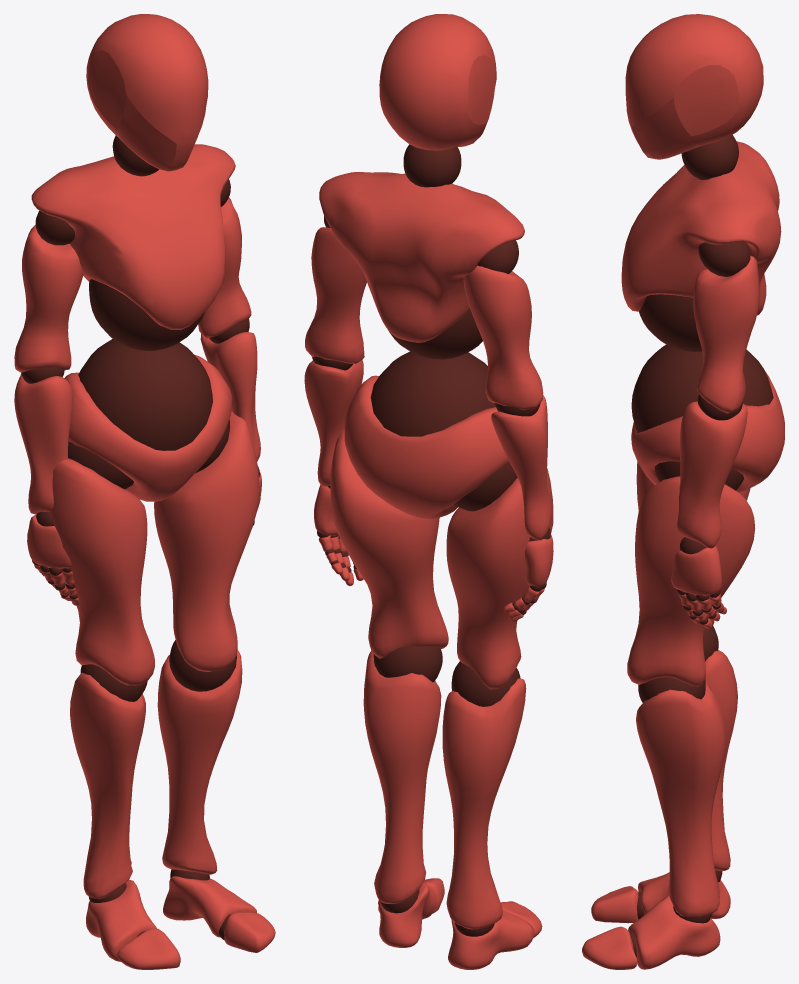
The model's file is dancer.obj.
3 views of the same model, side by side, from view 1: azimuth 30°, elevation 25°; view 2: azimuth 150°, elevation 25°; view 3: azimuth 270°, elevation 25° (orthographic). The views are drawn at different scales.
Visible parts, largest first — view 1: Beta_Surface, Beta_Joints; view 2: Beta_Surface, Beta_Joints; view 3: Beta_Surface, Beta_Joints.
Boxes of the visible parts, <box> form: Beta_Surface: <box>14,14,275,969</box>; Beta_Joints: <box>21,135,259,940</box>; Beta_Surface: <box>304,14,553,969</box>; Beta_Joints: <box>312,144,550,936</box>; Beta_Surface: <box>582,14,784,969</box>; Beta_Joints: <box>629,135,773,957</box>.
Bounding box in the file's own units: 0.4855 × 1.8 × 0.3623.
